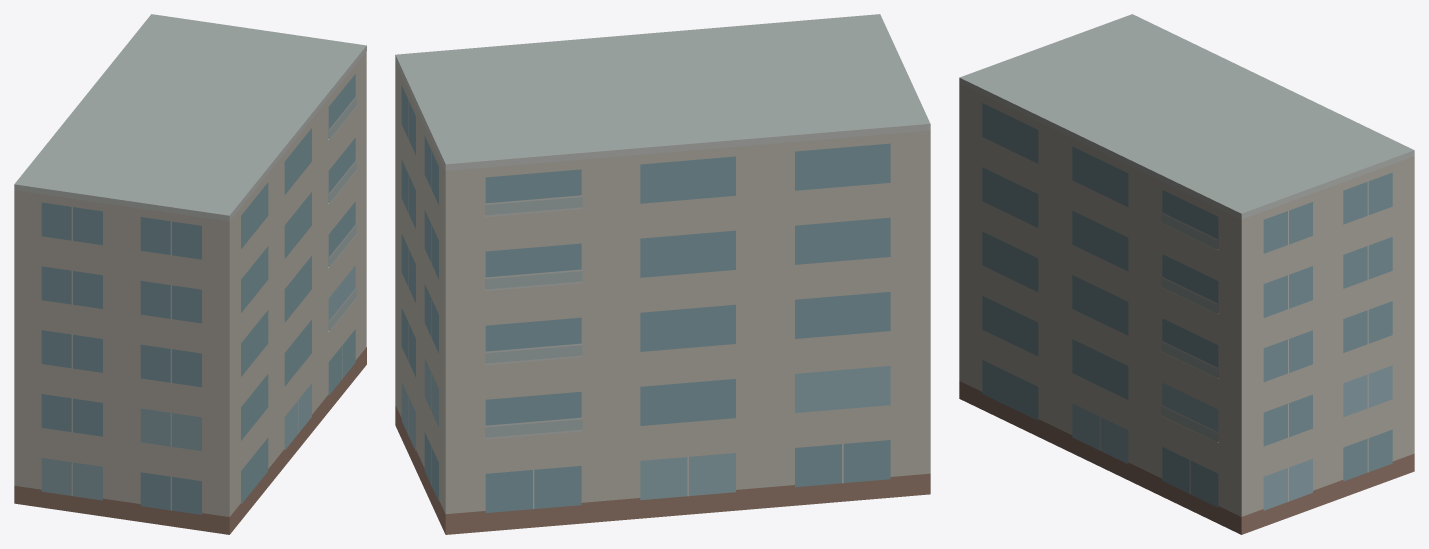
The model's file is survey-upis-32629296.glb.
The picture shows the model from 3 angles, left to right: view 1: azimuth 30°, elevation 25°; view 2: azimuth 150°, elevation 25°; view 3: azimuth 270°, elevation 25°; orthographic projection. The views are drawn at different scales.
Visible parts, largest first — view 1: survey-upis-32629296.tmp; view 2: survey-upis-32629296.tmp; view 3: survey-upis-32629296.tmp.
Part boxes in pixels (<box>): survey-upis-32629296.tmp: <box>14,14,366,534</box>; survey-upis-32629296.tmp: <box>395,14,930,534</box>; survey-upis-32629296.tmp: <box>959,14,1414,534</box>.
Size of the model in its own units: 17.88 by 13.4 by 17.22.
